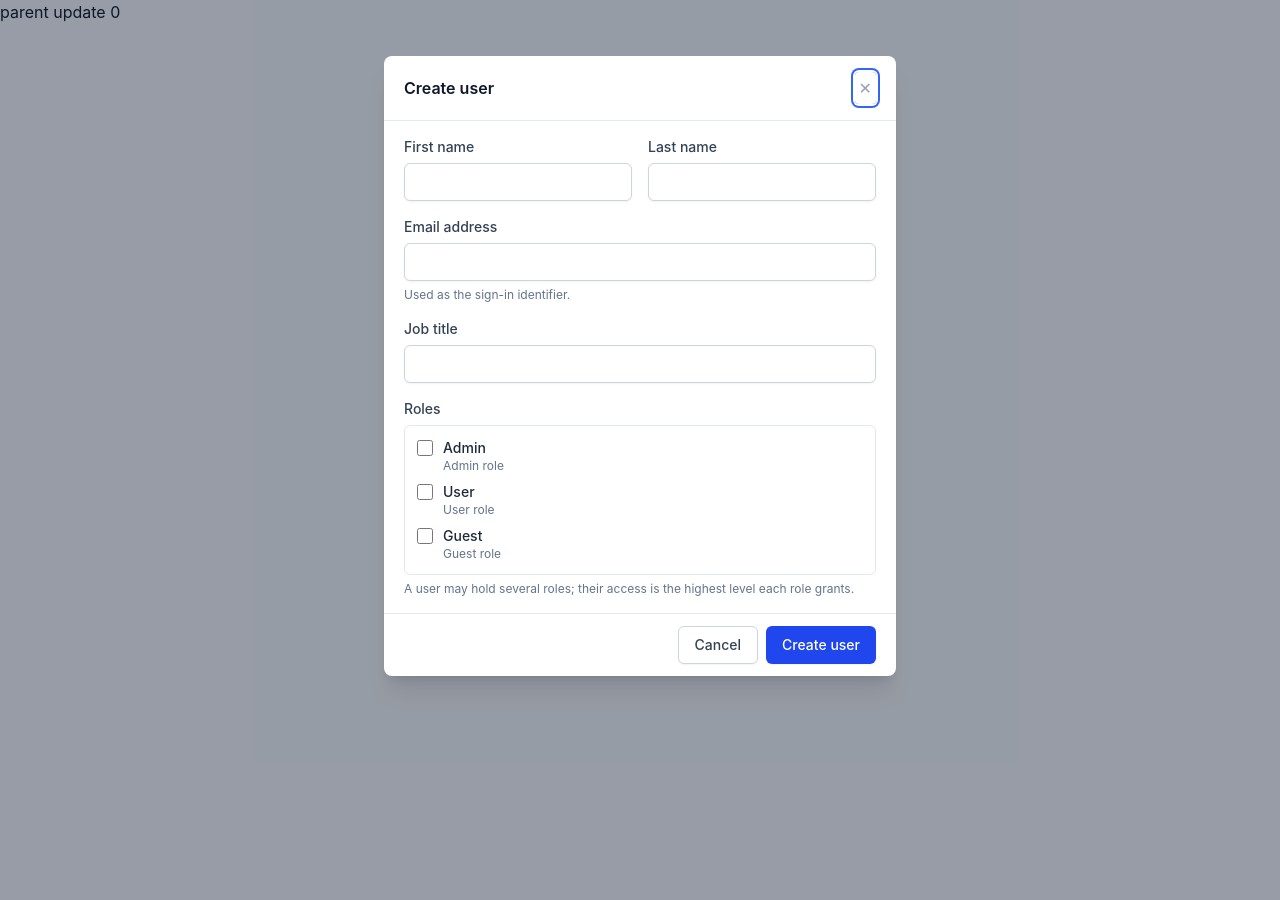
CreateUserDialog › surfaces a server validation error without clearing the form
Step 1. Type "Ada" into the field labelled "First name" → (518, 182), box [404,163,632,201]
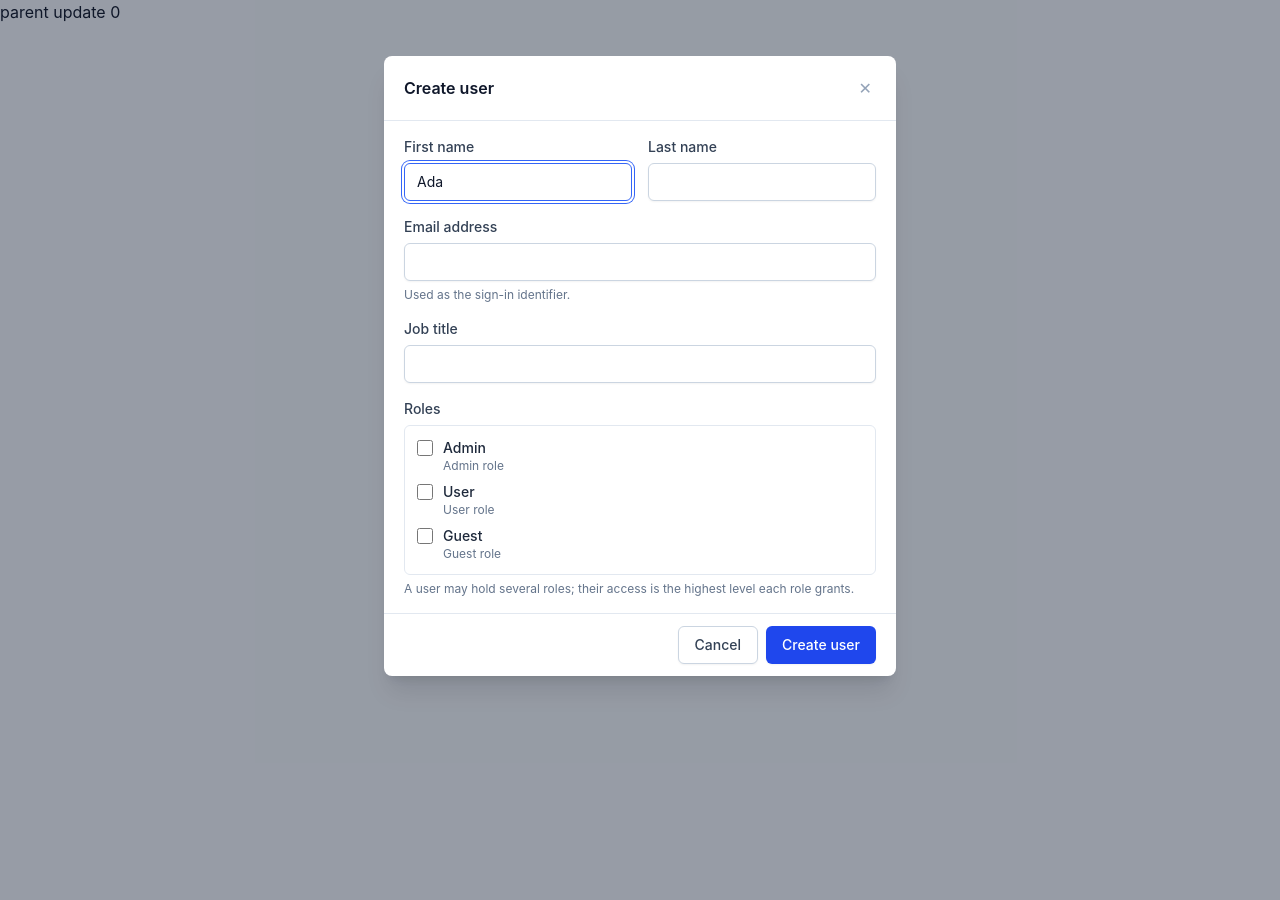
Step 2. Type "Lovelace" into the field labelled "Last name" → (762, 182), box [648,163,876,201]
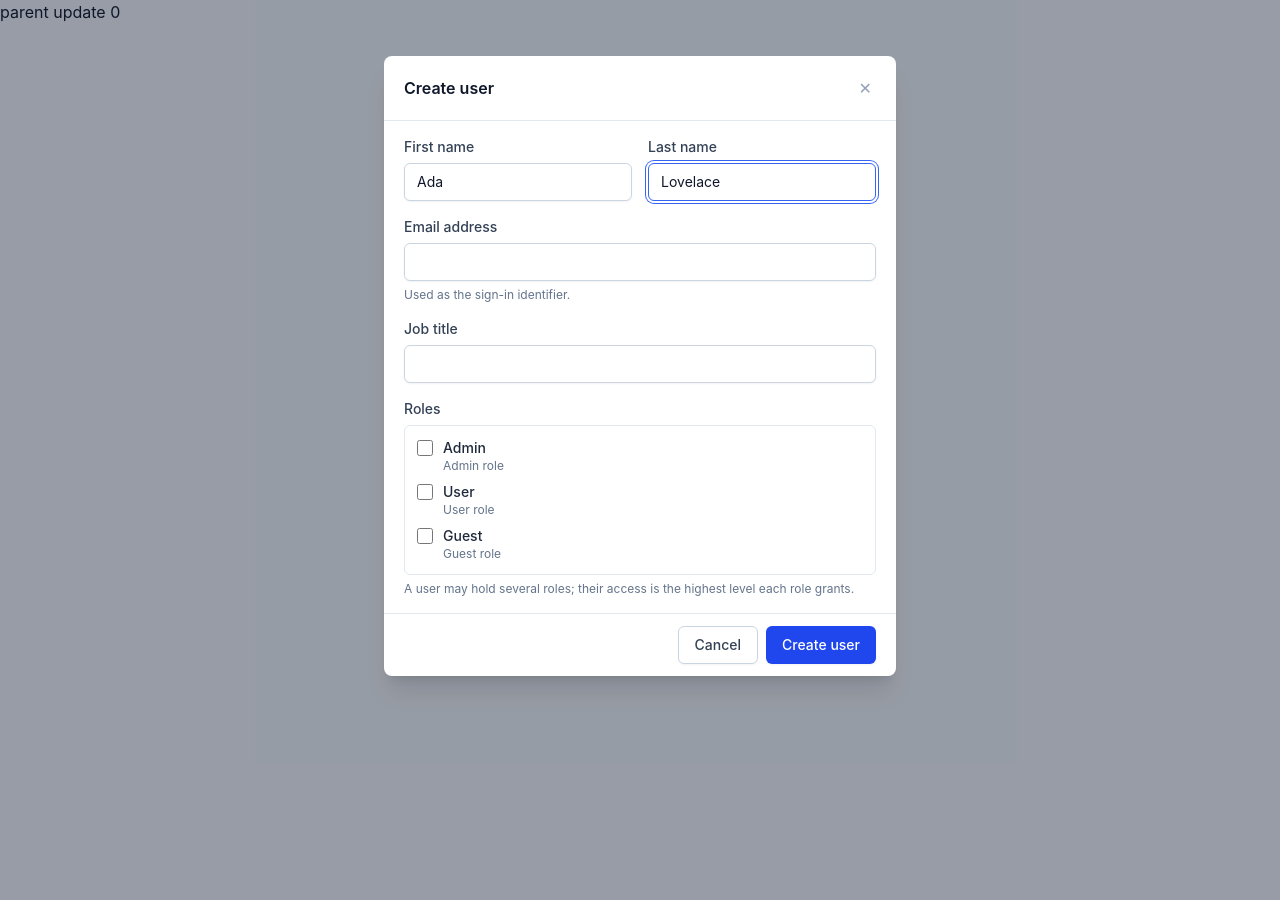
Step 3. Type "ada@example.internal" into the field labelled "Email address" → (640, 262), box [404,243,876,281]
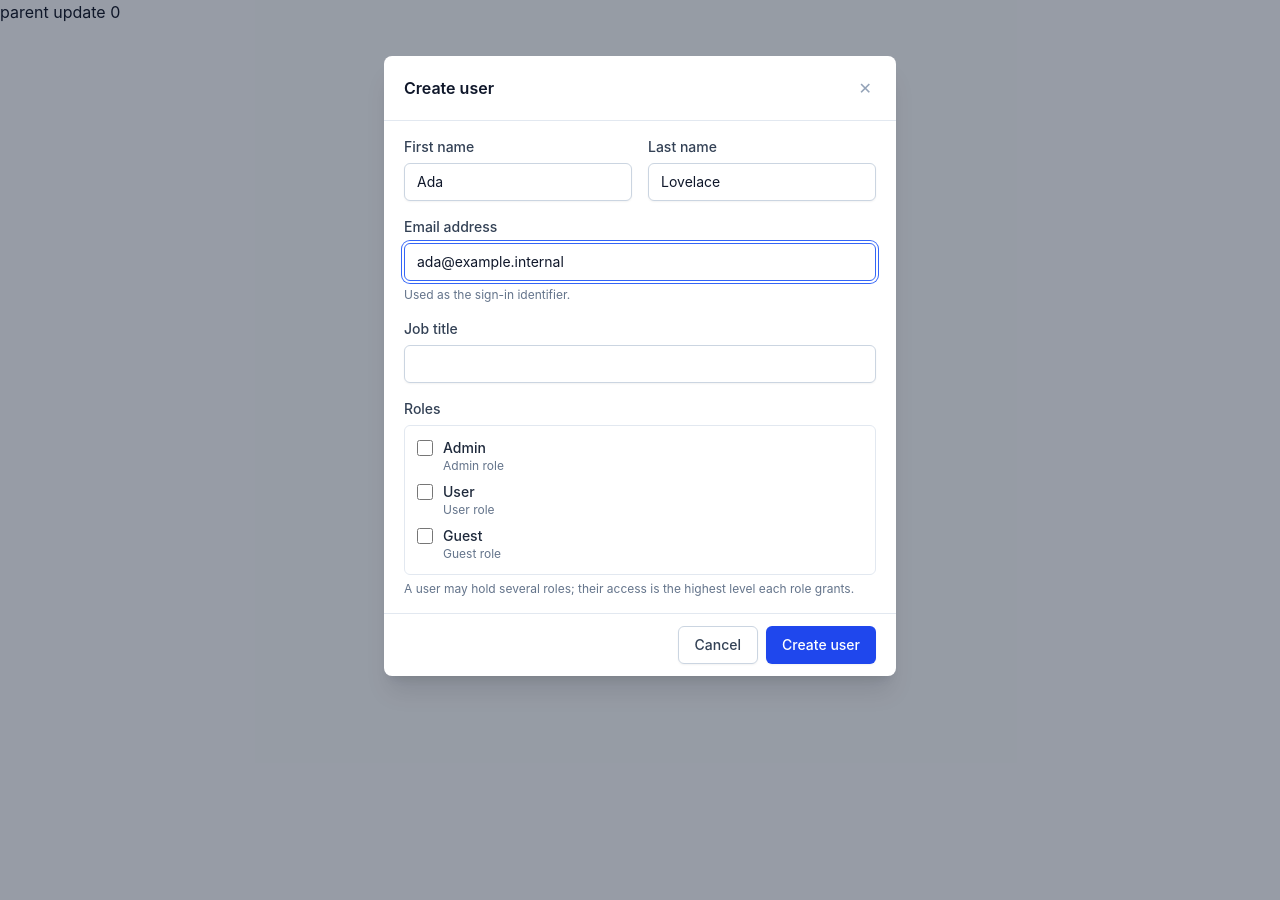
Step 4. Click the button "Create user" → (821, 645), box [766,626,876,664]
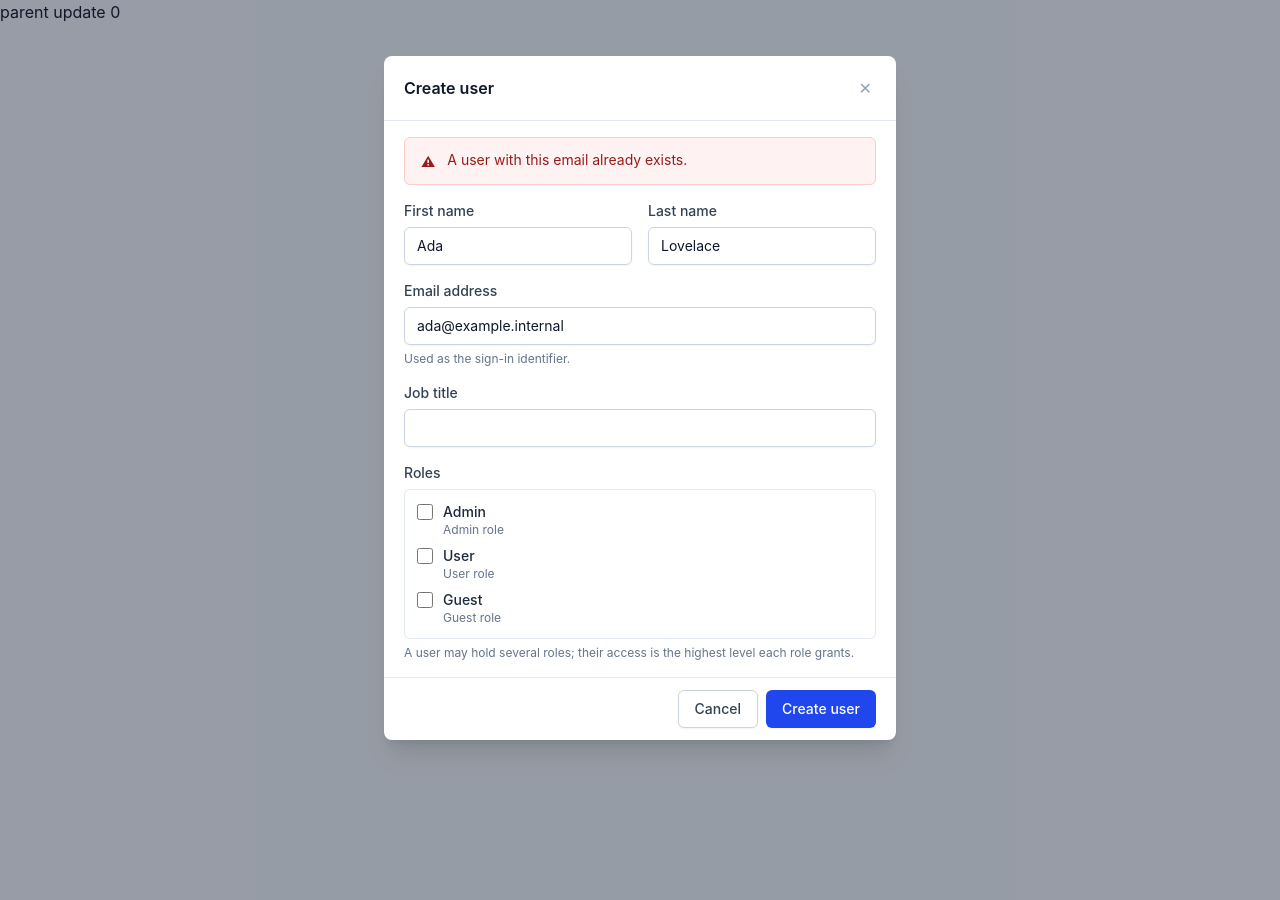
Now the text "A user with this email already exists." is shown, box [447,151,687,168]
